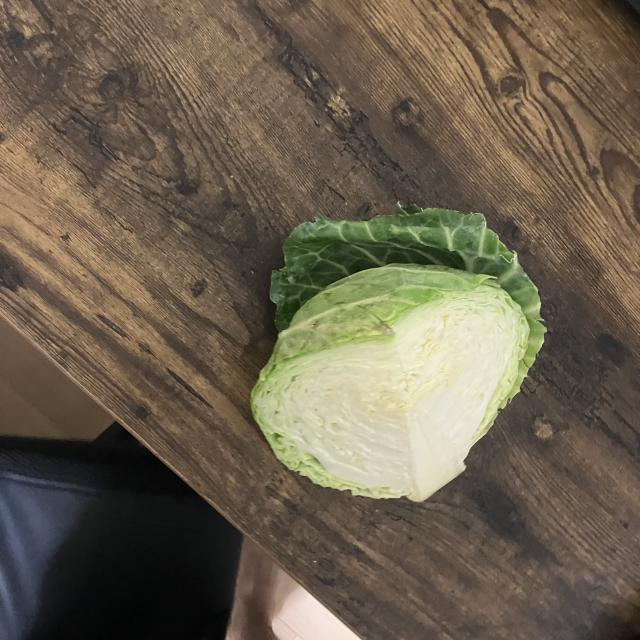haft-cabbage: (247, 206, 547, 508)
